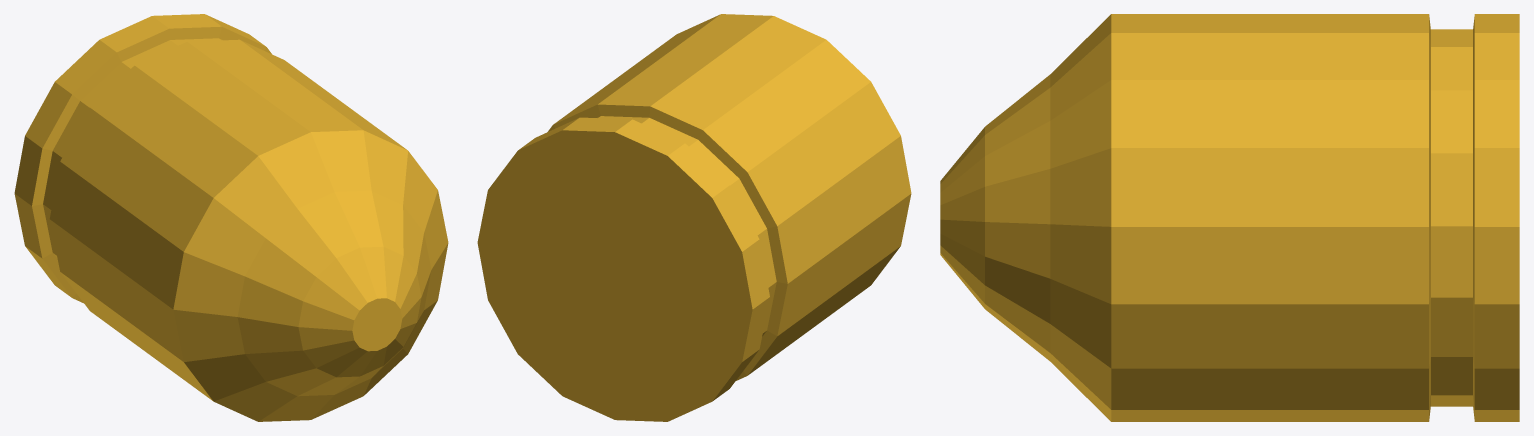
File: bullet.fbx
The picture shows the model from 3 angles, left to right: view 1: azimuth 30°, elevation 25°; view 2: azimuth 150°, elevation 25°; view 3: azimuth 270°, elevation 25°; orthographic projection. The views are drawn at different scales.
Parts seen in each view (by area): view 1: Bullet; view 2: Bullet; view 3: Bullet.
Part boxes in pixels (left/top/right/bottom): Bullet: left=14, top=14, right=448, bottom=421; Bullet: left=477, top=14, right=911, bottom=421; Bullet: left=940, top=14, right=1519, bottom=421.
Size of the model in its own units: 12.71 by 12.71 by 18.03.
